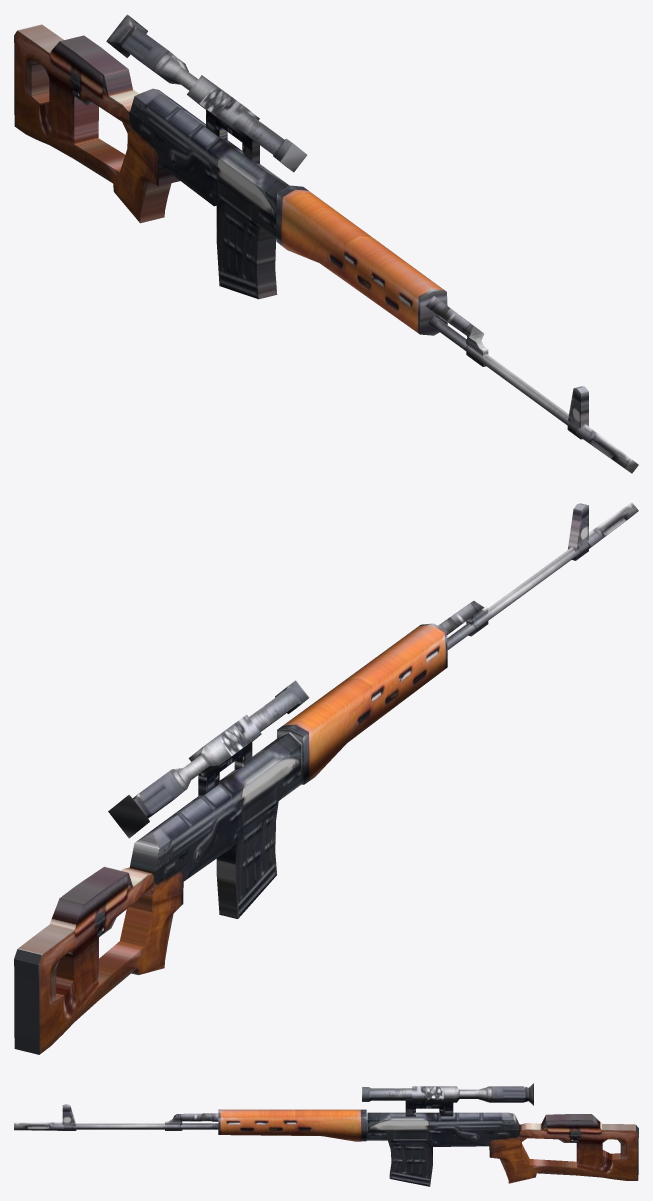
Rendered from SVD.FBX.
3 renders of one model, top to bottom at view 1: azimuth 30°, elevation 25°; view 2: azimuth 150°, elevation 25°; view 3: azimuth 270°, elevation 25°, orthographic. The views are drawn at different scales.
Parts seen in each view (by area): view 1: svd; view 2: svd; view 3: svd.
Boxes of the visible parts, x1=… form: svd: x1=14, y1=14, x2=638, y2=473; svd: x1=14, y1=502, x2=638, y2=1054; svd: x1=14, y1=1083, x2=638, y2=1186.
Bounding box in the file's own units: 1.67 × 7.4 × 41.41.
